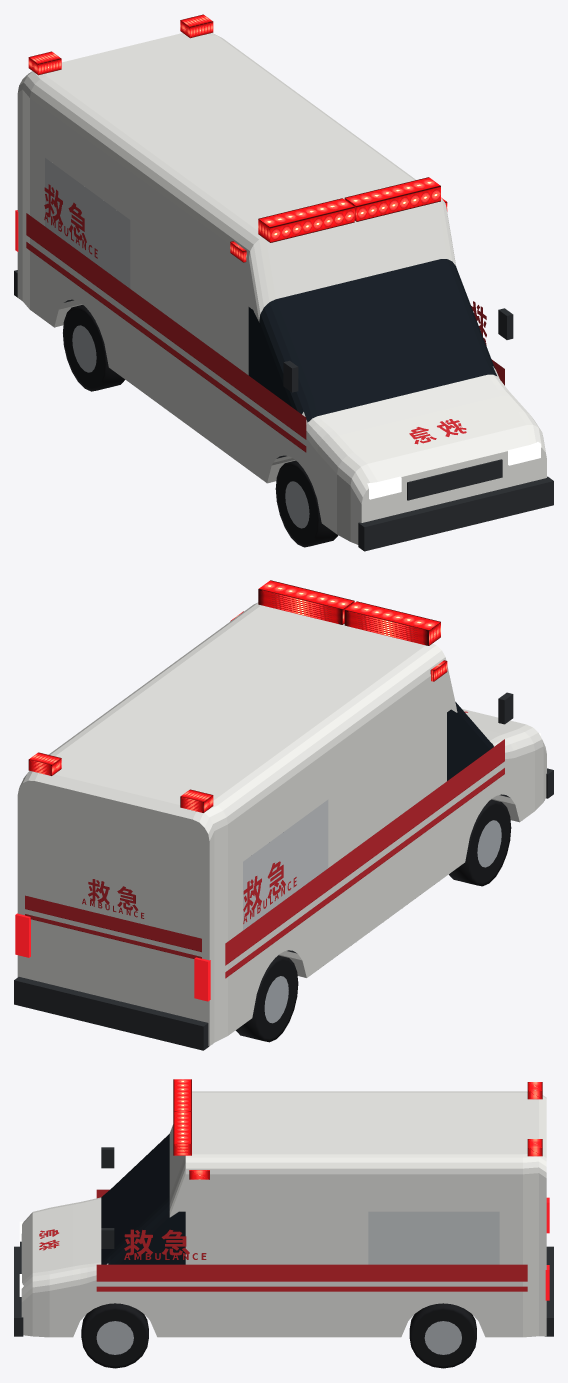
Rendered from ambulance.glb.
3 renders of one model, top to bottom at view 1: azimuth 30°, elevation 25°; view 2: azimuth 150°, elevation 25°; view 3: azimuth 270°, elevation 25°, orthographic. The views are drawn at different scales.
Visible parts, largest first — view 1: Ambulance, AmbulanceWheels; view 2: Ambulance, AmbulanceWheels; view 3: Ambulance, AmbulanceWheels.
Boxes of the visible parts, <box> form: Ambulance: <box>14,14,553,551</box>; AmbulanceWheels: <box>63,305,337,547</box>; Ambulance: <box>14,580,553,1050</box>; AmbulanceWheels: <box>236,799,511,1042</box>; Ambulance: <box>14,1079,553,1337</box>; AmbulanceWheels: <box>81,1303,476,1368</box>.
Size of the model in its own units: 2.1 by 2.6 by 5.76.
13 materials, 5 textured.
